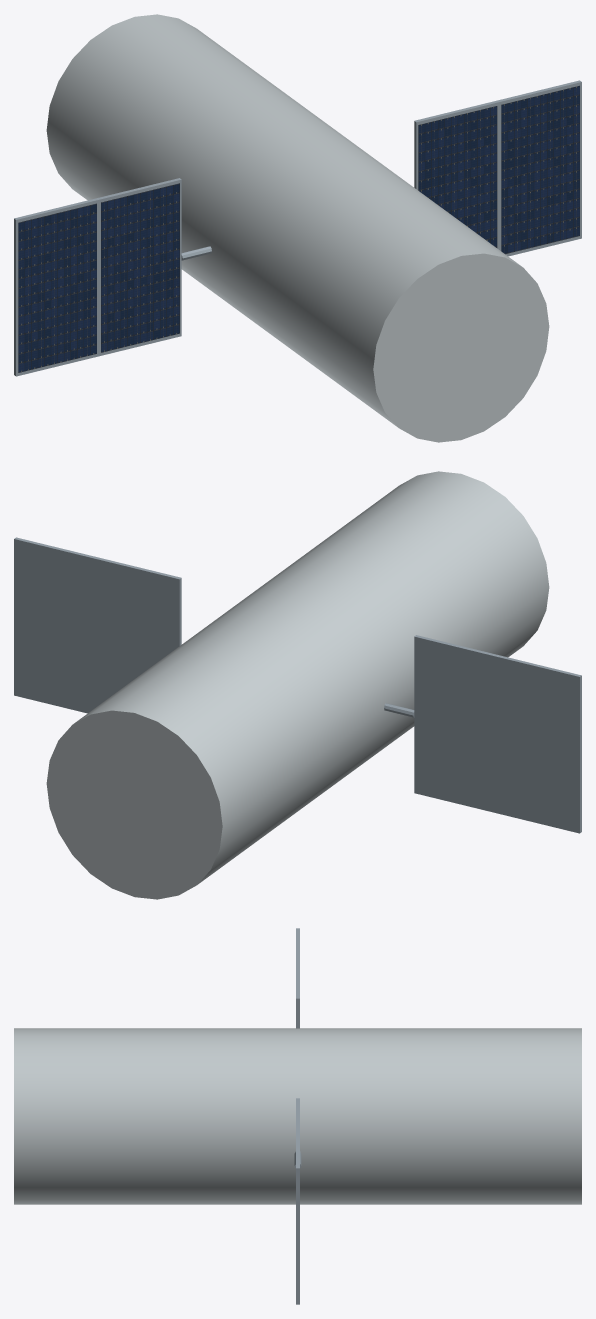
File: ref-astrofizika-11165.glb
3 renders of one model, top to bottom at view 1: azimuth 30°, elevation 25°; view 2: azimuth 150°, elevation 25°; view 3: azimuth 270°, elevation 25°, orthographic. The views are drawn at different scales.
Visible parts, largest first — view 1: Spacecraft body, Photovoltaic laminates (×4), Array frame (×4); view 2: Spacecraft body, Array frame (×4); view 3: Spacecraft body, Array frame.
Part boxes in pixels (left/top/right/bottom): Spacecraft body: left=46, top=14, right=549, bottom=442; Photovoltaic laminates (×4): left=18, top=85, right=579, bottom=372; Array frame (×4): left=14, top=80, right=581, bottom=376; Spacecraft body: left=46, top=471, right=549, bottom=899; Array frame (×4): left=14, top=537, right=581, bottom=833; Spacecraft body: left=14, top=1028, right=581, bottom=1204; Array frame: left=296, top=1133, right=299, bottom=1304.
Bounding box in the file's own units: 4.5 × 1.4 × 4.5.
3 materials, 1 textured.
